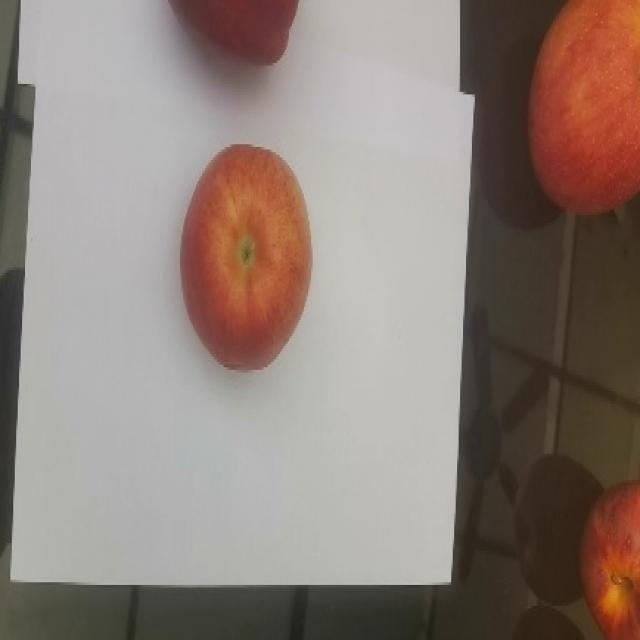Apple: (179, 142, 312, 372), (526, 0, 639, 216), (578, 481, 639, 639), (166, 0, 299, 65)
